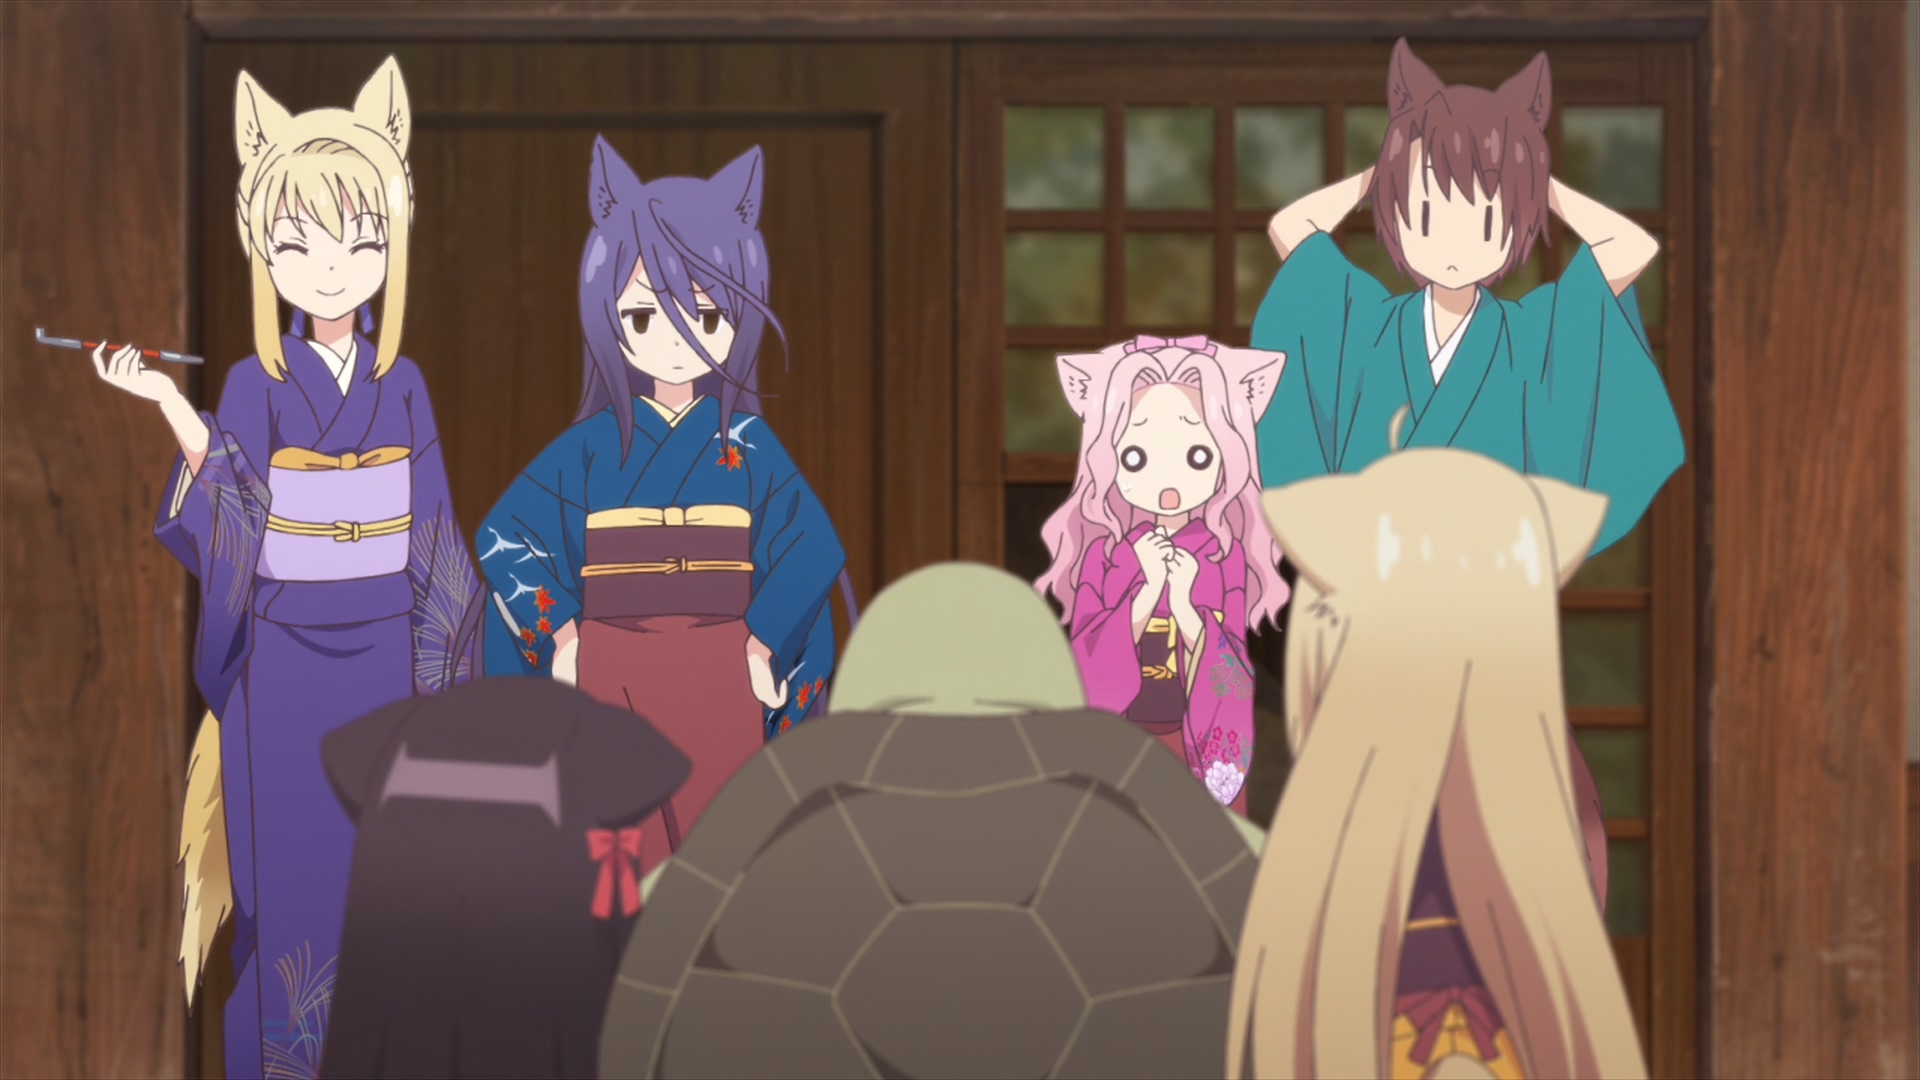其他: (597, 560, 1271, 1080)
枣: (1249, 32, 1687, 563)
柚: (1224, 402, 1644, 1080)
桐: (92, 53, 487, 1080)
樱: (319, 674, 694, 1080)
皋: (473, 131, 860, 901)
莲: (1035, 334, 1288, 819)
